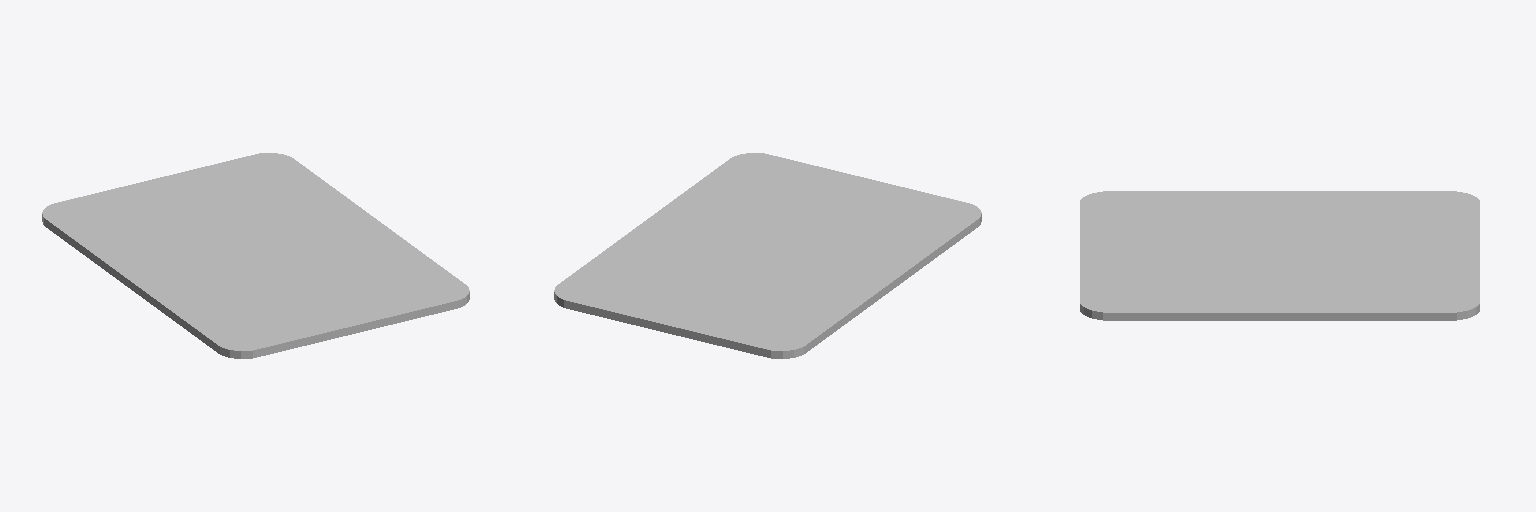
Rendered from PlayingCard_A__2.obj.
3 views of the same model, side by side, from view 1: azimuth 30°, elevation 25°; view 2: azimuth 150°, elevation 25°; view 3: azimuth 270°, elevation 25° (orthographic).
Visible parts, largest first — view 1: Cube1; view 2: Cube1; view 3: Cube1.
Part boxes in pixels (left/top/right/bottom): Cube1: left=42, top=153, right=469, bottom=358; Cube1: left=554, top=153, right=981, bottom=358; Cube1: left=1080, top=191, right=1479, bottom=320.
Size of the model in its own units: 2.5 by 0.077 by 3.5.